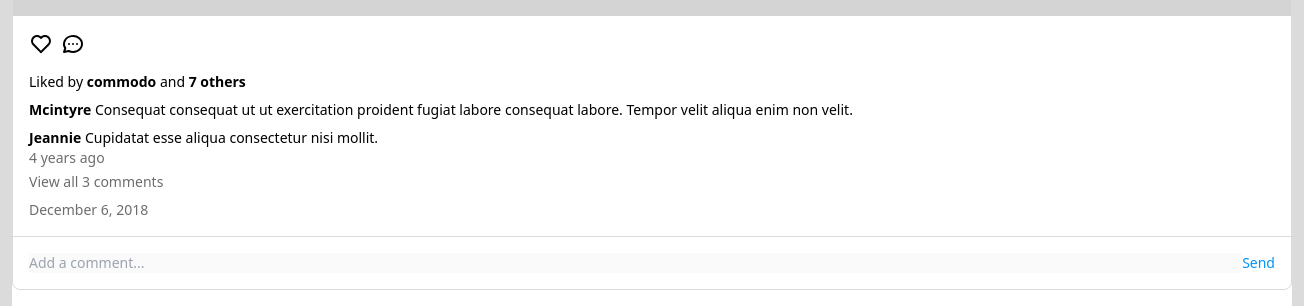
Scenario: <Post/> › should show comment when clicked view all comment
The width and height of the screenshot is (1304, 306).
(page scrolled)
Click the text "View all 3 comments" at (96, 182), box [29,172,163,191]
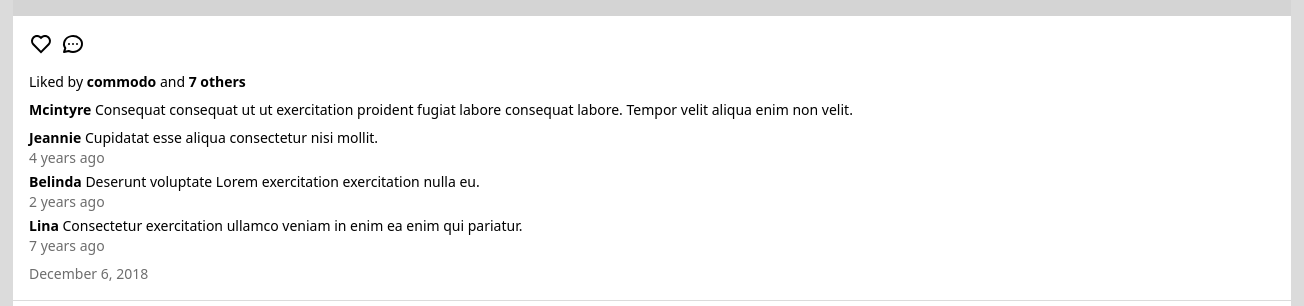
Check: the text "Deserunt voluptate Lorem exercitation exercitation nulla eu." is shown, box [85,172,480,191]
